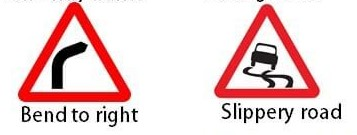Traffic signal: (17, 1, 132, 105), (213, 3, 320, 98)
